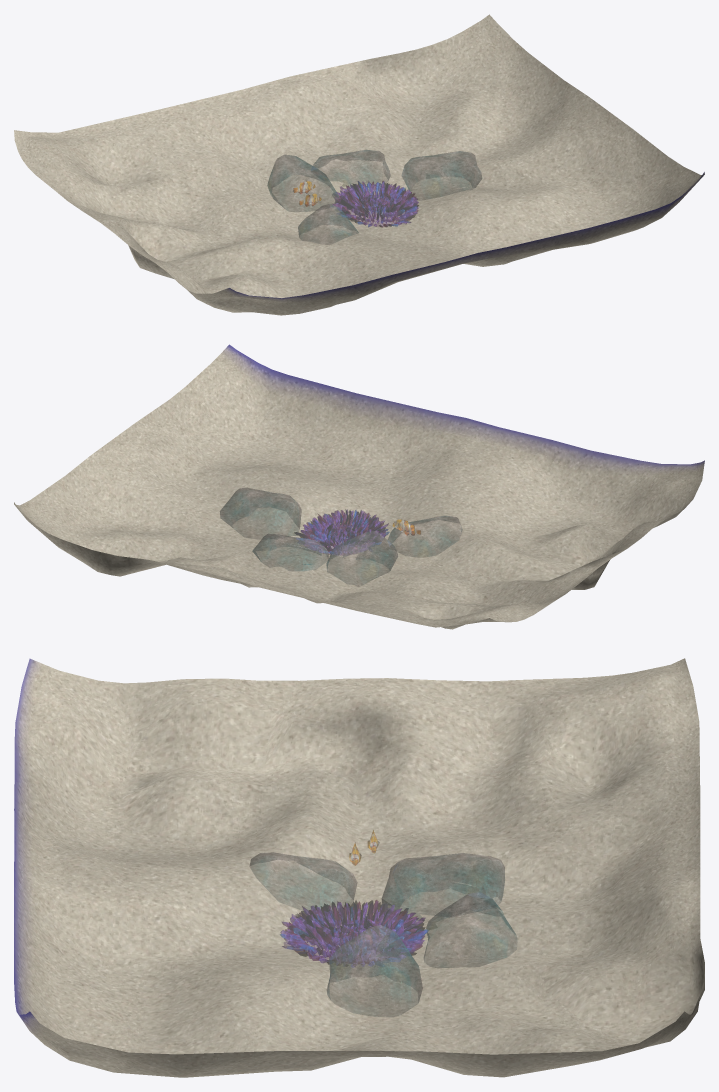
File: ocean.glb
The picture shows the model from 3 angles, top to bottom: view 1: azimuth 30°, elevation 25°; view 2: azimuth 150°, elevation 25°; view 3: azimuth 270°, elevation 25°; orthographic projection. The views are drawn at different scales.
Visible parts, largest first — view 1: Ocean, Coral; view 2: Ocean, Coral; view 3: Ocean, Coral.
Boxes of the visible parts, bbox=[...] form: Ocean: bbox=[14, 14, 704, 315]; Coral: bbox=[332, 181, 418, 227]; Ocean: bbox=[14, 344, 704, 629]; Coral: bbox=[294, 509, 389, 555]; Ocean: bbox=[14, 658, 704, 1077]; Coral: bbox=[280, 900, 428, 967].
Size of the model in its own units: 47.66 by 6.07 by 37.6.
4 materials, 4 textured.
